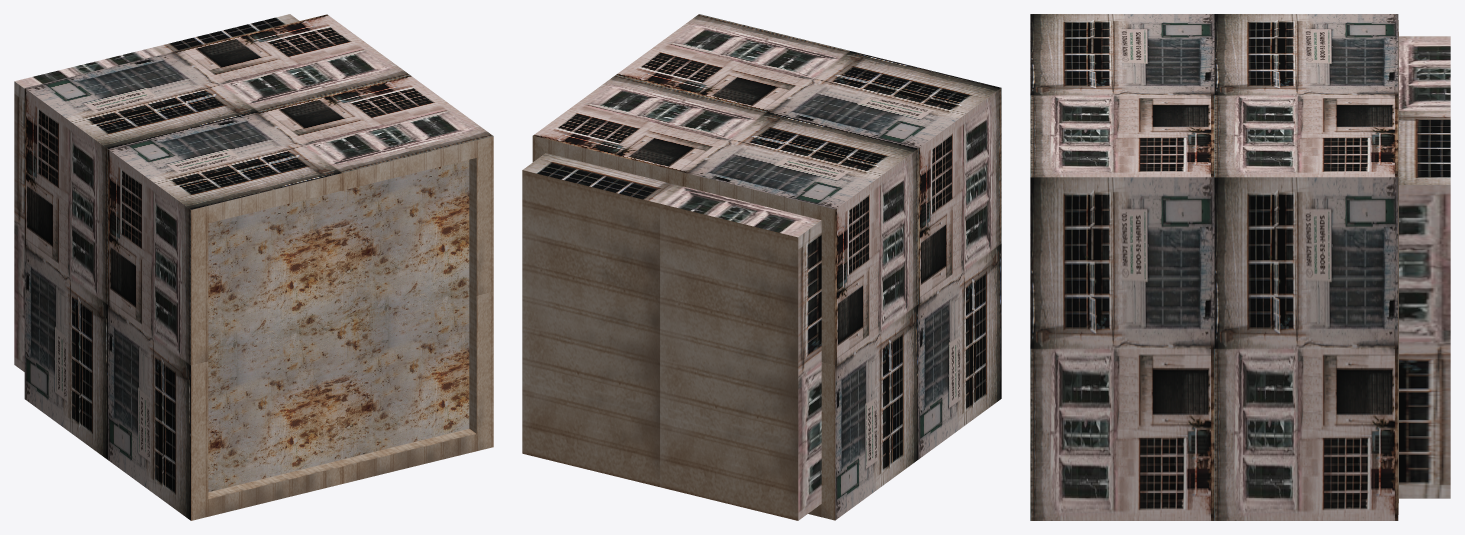
The model's file is urbaniron02d_wtf.obj.
3 renders of one model, left to right at view 1: azimuth 30°, elevation 25°; view 2: azimuth 150°, elevation 25°; view 3: azimuth 270°, elevation 25°, orthographic. The views are drawn at different scales.
Parts seen in each view (by area): view 1: group5, group4, group3; view 2: group5, group3; view 3: group5, group3.
Boxes of the visible parts, x1=… form: group5: x1=14, y1=14, x2=493, y2=520; group4: x1=208, y1=160, x2=469, y2=492; group3: x1=191, y1=136, x2=493, y2=520; group5: x1=523, y1=14, x2=1001, y2=520; group3: x1=522, y1=136, x2=835, y2=520; group5: x1=1030, y1=14, x2=1450, y2=520; group3: x1=1398, y1=20, x2=1398, y2=514.
Size of the model in its own units: 606 by 595 by 660.
